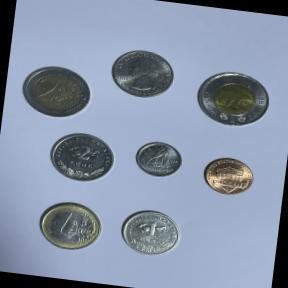coin: (187, 64, 278, 138), (14, 58, 98, 128), (32, 195, 108, 258), (45, 126, 121, 188), (105, 43, 180, 104), (198, 151, 259, 203), (130, 136, 189, 184)
